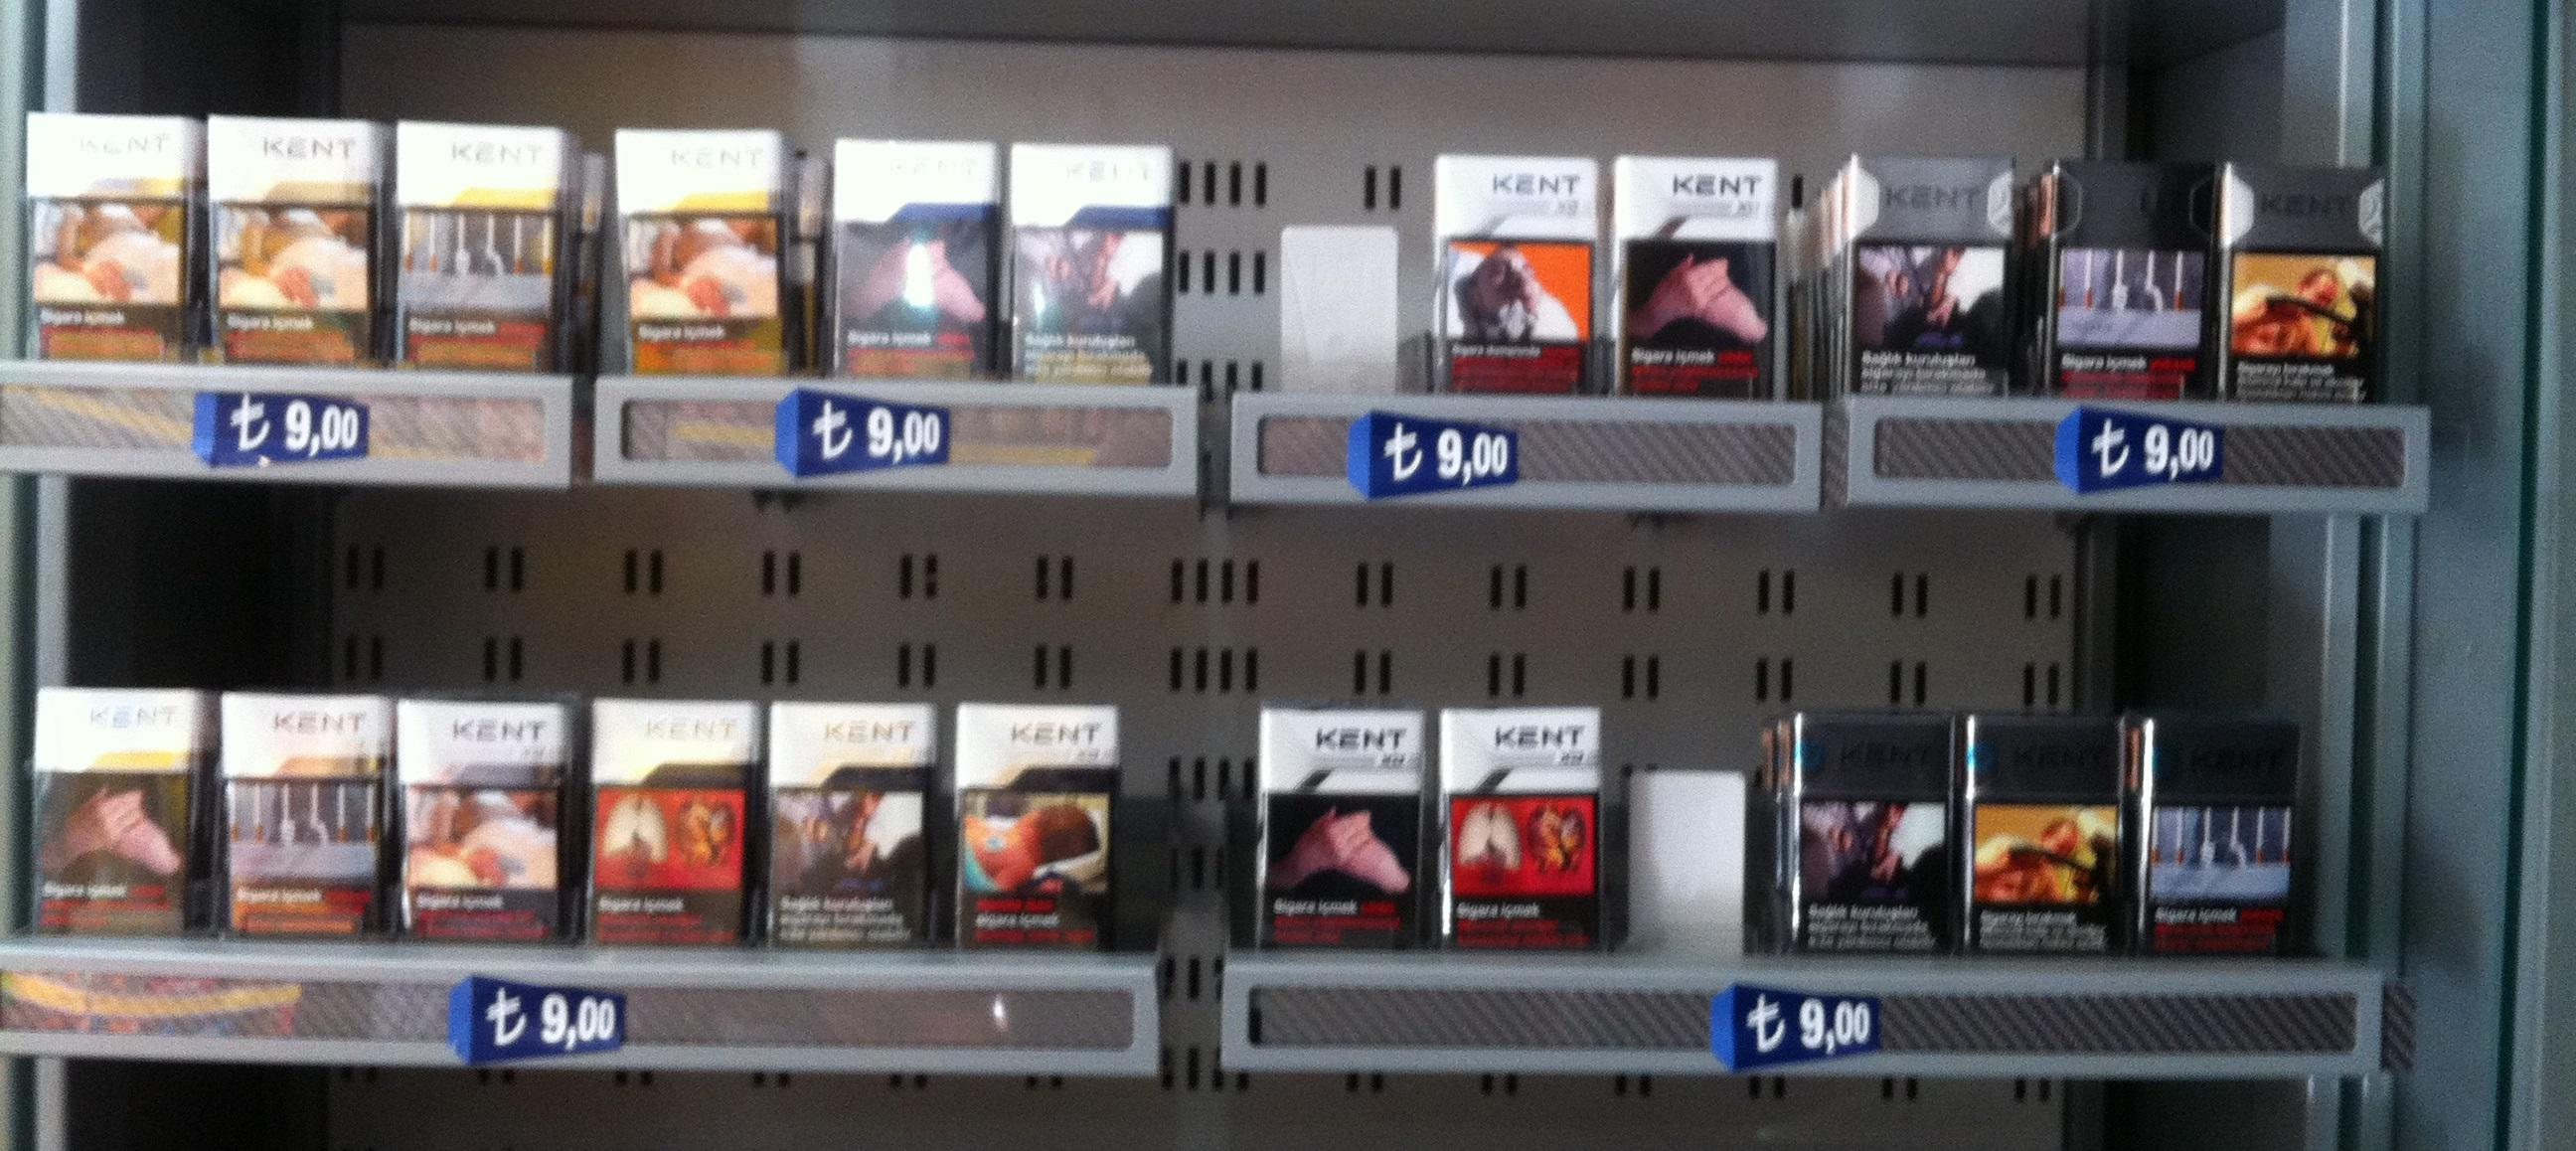product: (2024, 144, 2208, 399), (2223, 144, 2407, 399), (386, 108, 570, 363), (1249, 693, 1433, 947), (1419, 140, 1603, 394), (207, 668, 391, 923), (585, 668, 769, 923), (756, 673, 940, 928), (1774, 701, 1957, 956), (1838, 156, 2021, 410), (1965, 696, 2147, 951), (2124, 693, 2307, 947), (25, 100, 207, 355), (30, 676, 212, 931), (601, 125, 784, 379), (816, 128, 999, 383), (991, 128, 1173, 383), (1441, 701, 1623, 956), (1595, 148, 1778, 402), (195, 112, 378, 366), (422, 676, 605, 931), (940, 693, 1122, 947)
